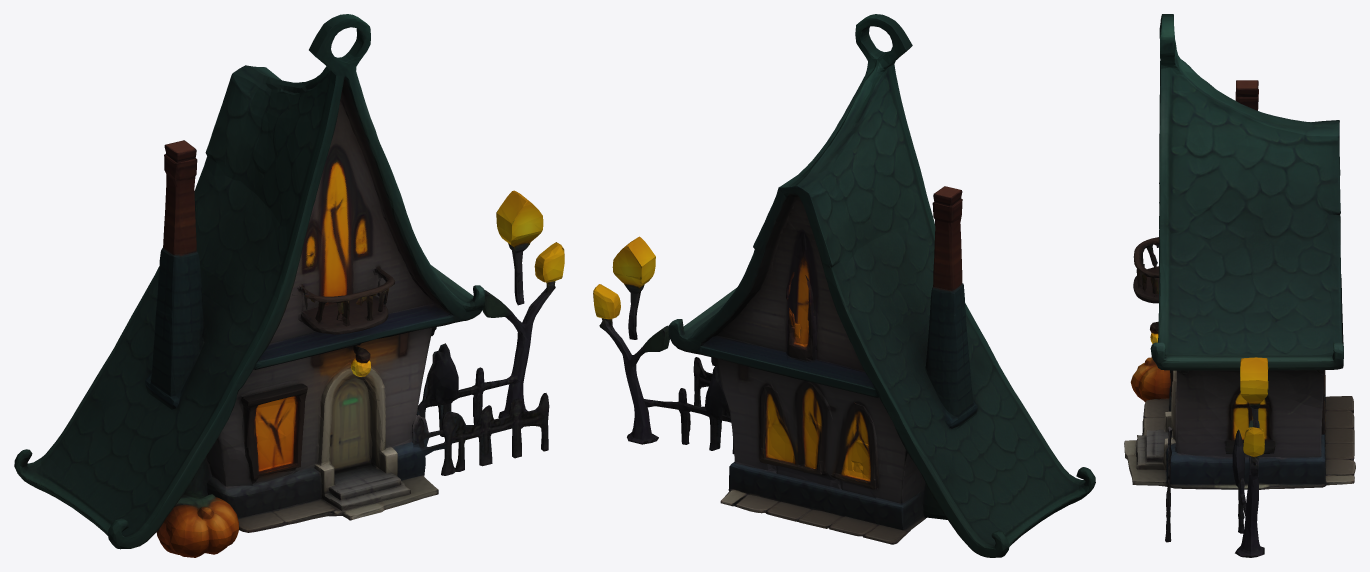
The model's file is halloween-haunted-house-3d-model-2476.glb.
The picture shows the model from 3 angles, left to right: view 1: azimuth 30°, elevation 25°; view 2: azimuth 150°, elevation 25°; view 3: azimuth 270°, elevation 25°; orthographic projection. The views are drawn at different scales.
Parts seen in each view (by area): view 1: world; view 2: world; view 3: world.
Part boxes in pixels (x1,y1,x2,y2): world: (14,14,564,557); world: (593,14,1095,557); world: (1124,14,1355,557).
Size of the model in its own units: 0.9938 by 0.9426 by 0.4404.
Materials: 1 (1 with a texture image).
